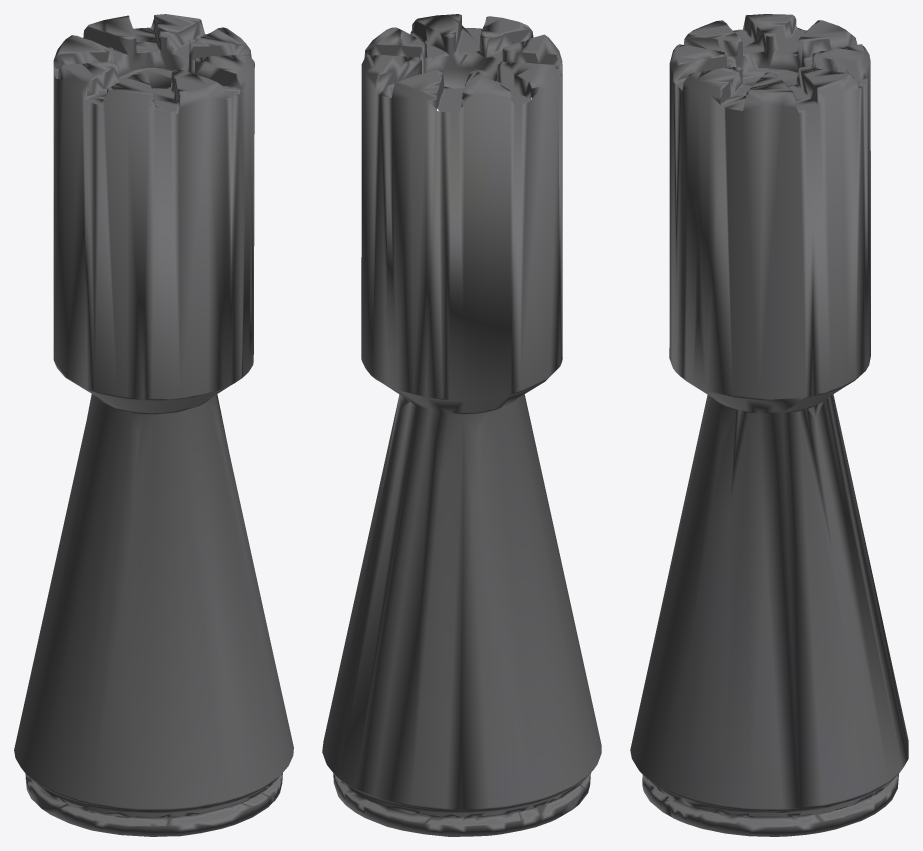
Rendered from 01_kral_cerna.glb.
The picture shows the model from 3 angles, left to right: view 1: azimuth 30°, elevation 25°; view 2: azimuth 150°, elevation 25°; view 3: azimuth 270°, elevation 25°; orthographic projection.
Visible parts, largest first — view 1: 01_kral_cerna; view 2: 01_kral_cerna; view 3: 01_kral_cerna.
Boxes of the visible parts, x1,y1,x2,y2 form: 01_kral_cerna: (14, 14, 293, 836); 01_kral_cerna: (322, 14, 601, 836); 01_kral_cerna: (630, 14, 908, 836).
Bounding box in the file's own units: 0.0336 × 0.0972 × 0.0336.
Materials: 1 (1 with a texture image).
